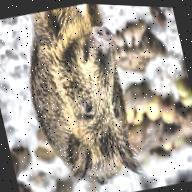boar: (12, 1, 149, 192)
